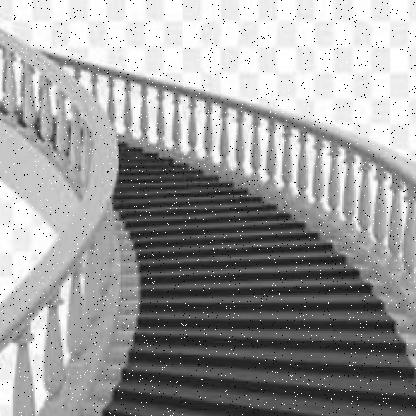stair_up: (98, 267, 402, 416)
